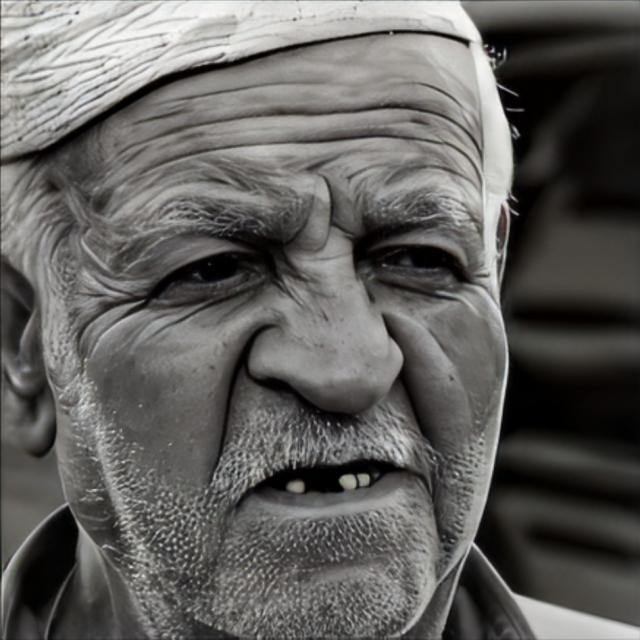disgust: (37, 28, 508, 640)
